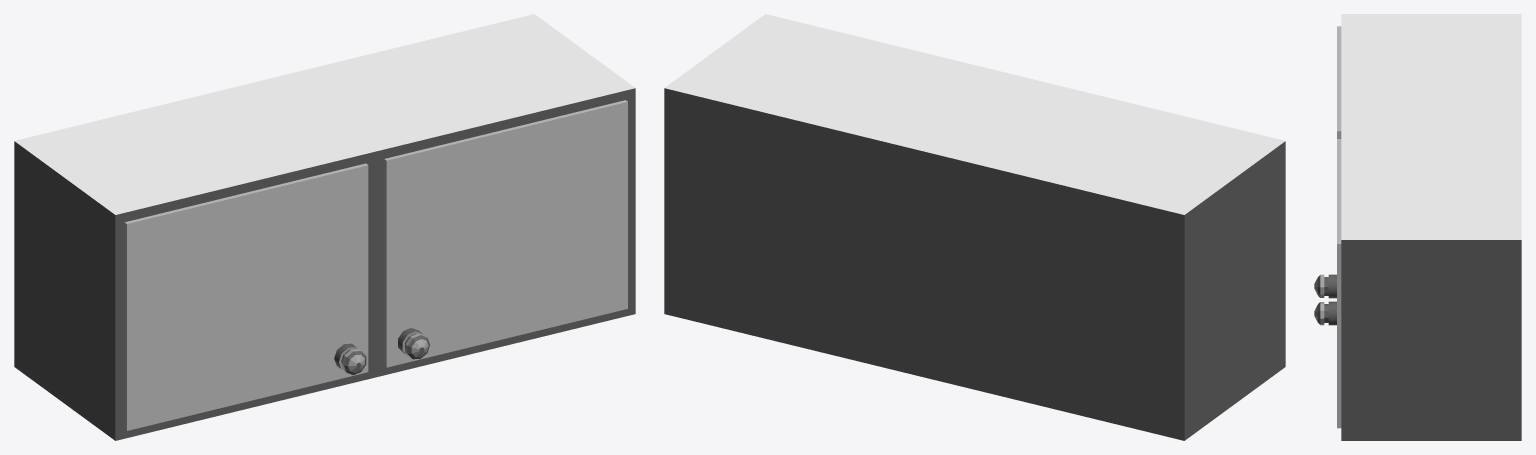
The model's file is Cabinet_Gray_Upper2.fbx.
The picture shows the model from 3 angles, left to right: view 1: azimuth 30°, elevation 25°; view 2: azimuth 150°, elevation 25°; view 3: azimuth 270°, elevation 25°; orthographic projection. The views are drawn at different scales.
Visible parts, largest first — view 1: Cabinet_Gray_Upper2, Cabinet_Gray_Upper2.001, Cabinet_Gray_Upper2.002; view 2: Cabinet_Gray_Upper2; view 3: Cabinet_Gray_Upper2, Cabinet_Gray_Upper2.002, Cabinet_Gray_Upper2.001.
Part boxes in pixels (x1,y1,x2,y2): Cabinet_Gray_Upper2: [14, 14, 635, 440]; Cabinet_Gray_Upper2.001: [124, 163, 368, 430]; Cabinet_Gray_Upper2.002: [384, 100, 627, 367]; Cabinet_Gray_Upper2: [664, 14, 1285, 440]; Cabinet_Gray_Upper2: [1341, 14, 1521, 440]; Cabinet_Gray_Upper2.002: [1314, 139, 1341, 428]; Cabinet_Gray_Upper2.001: [1314, 26, 1341, 298].
Bounding box in the file's own units: 200 × 82.98 × 77.55.
